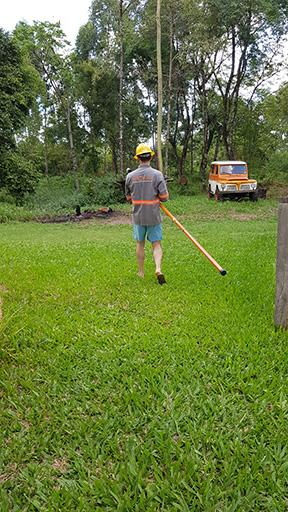Vara_Manobra: (156, 201, 224, 275)
